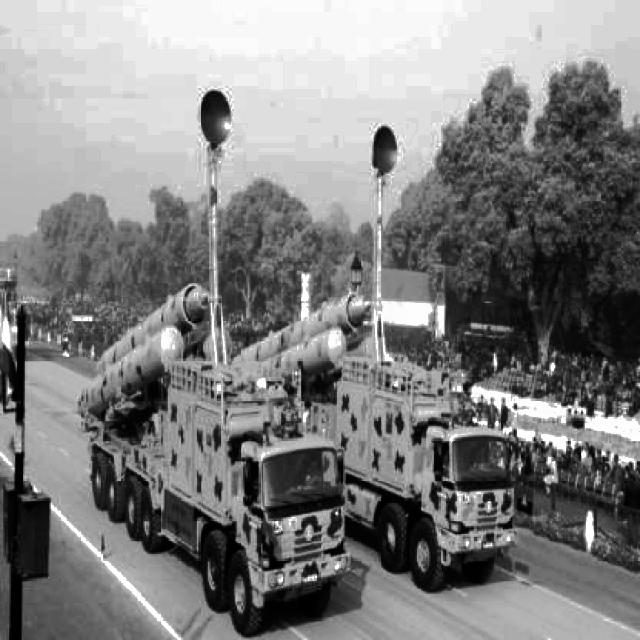HCV: (94, 319, 332, 613), (320, 338, 517, 591)
